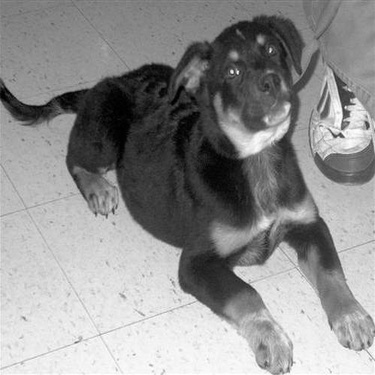dog: (1, 13, 371, 371)
